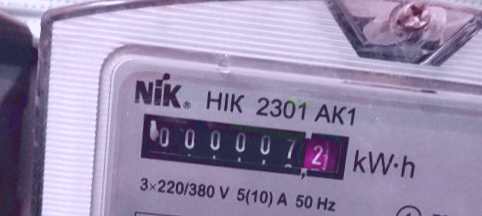0: (156, 123, 173, 148), (233, 130, 250, 154), (208, 127, 224, 152), (182, 126, 198, 150), (258, 132, 273, 156)
2: (310, 142, 326, 167)
7: (283, 135, 298, 160)
screen: (127, 99, 361, 193)
